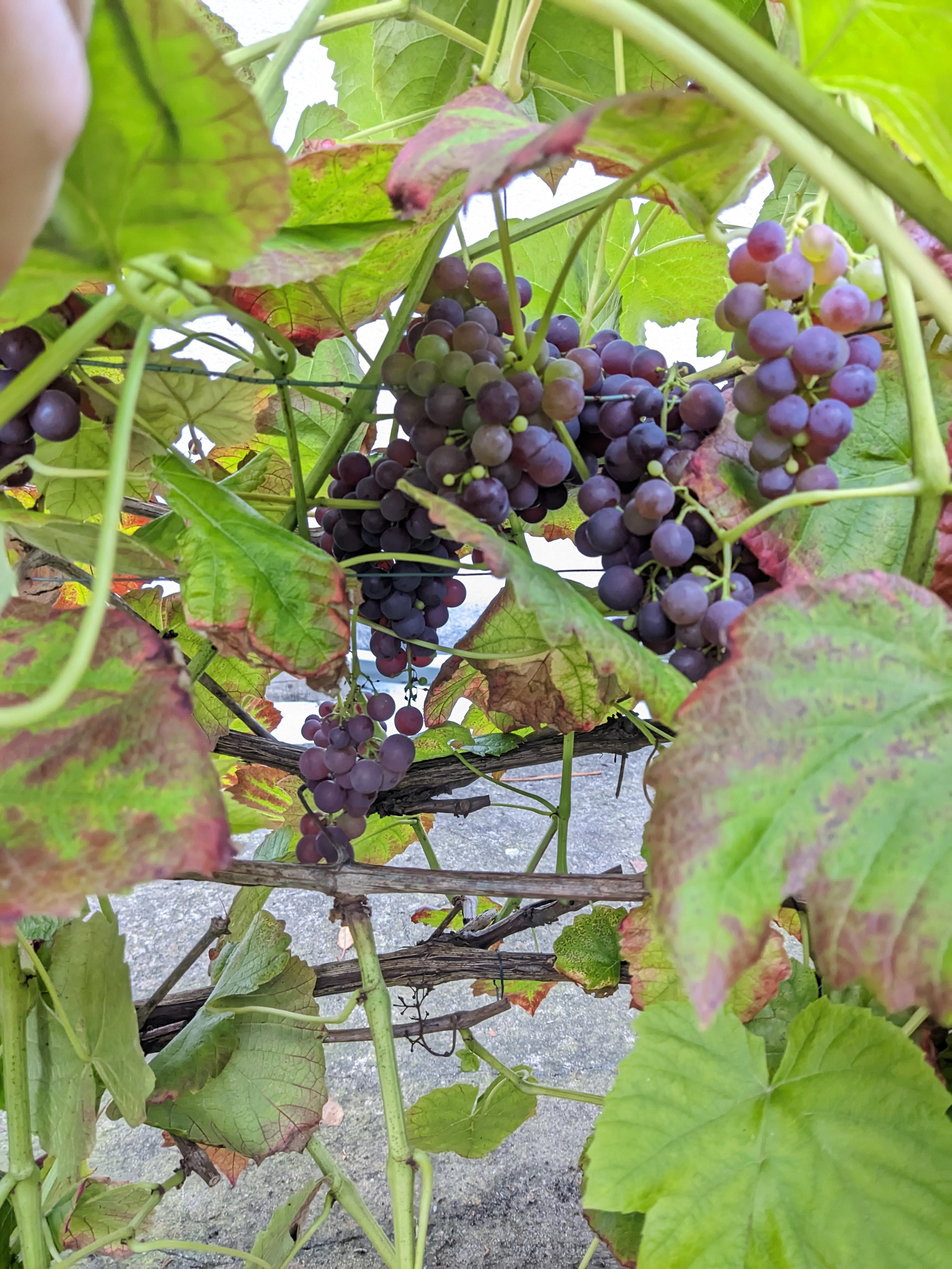Grape Unripe: (536, 313, 764, 681), (384, 257, 611, 534), (720, 219, 888, 504), (319, 424, 472, 735), (295, 692, 415, 863), (0, 324, 116, 487)
